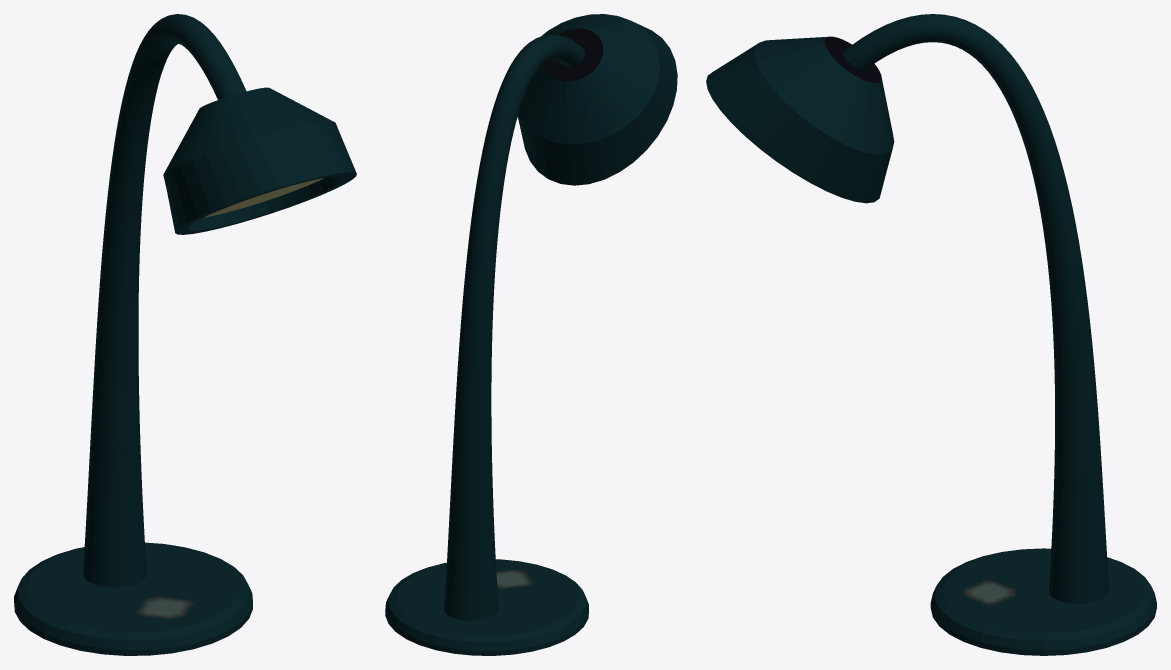
The model's file is Lampara.obj.
3 views of the same model, side by side, from view 1: azimuth 30°, elevation 25°; view 2: azimuth 150°, elevation 25°; view 3: azimuth 270°, elevation 25° (orthographic). The views are drawn at different scales.
Parts seen in each view (by area): view 1: Top_Cylinder.001; view 2: Top_Cylinder.001; view 3: Top_Cylinder.001.
Part boxes in pixels (<box>): Top_Cylinder.001: <box>14,14,356,655</box>; Top_Cylinder.001: <box>385,14,677,655</box>; Top_Cylinder.001: <box>706,14,1156,655</box>.
Bounding box in the file's own units: 0.1378 × 0.3984 × 0.2746.
3 materials, 3 textured.
